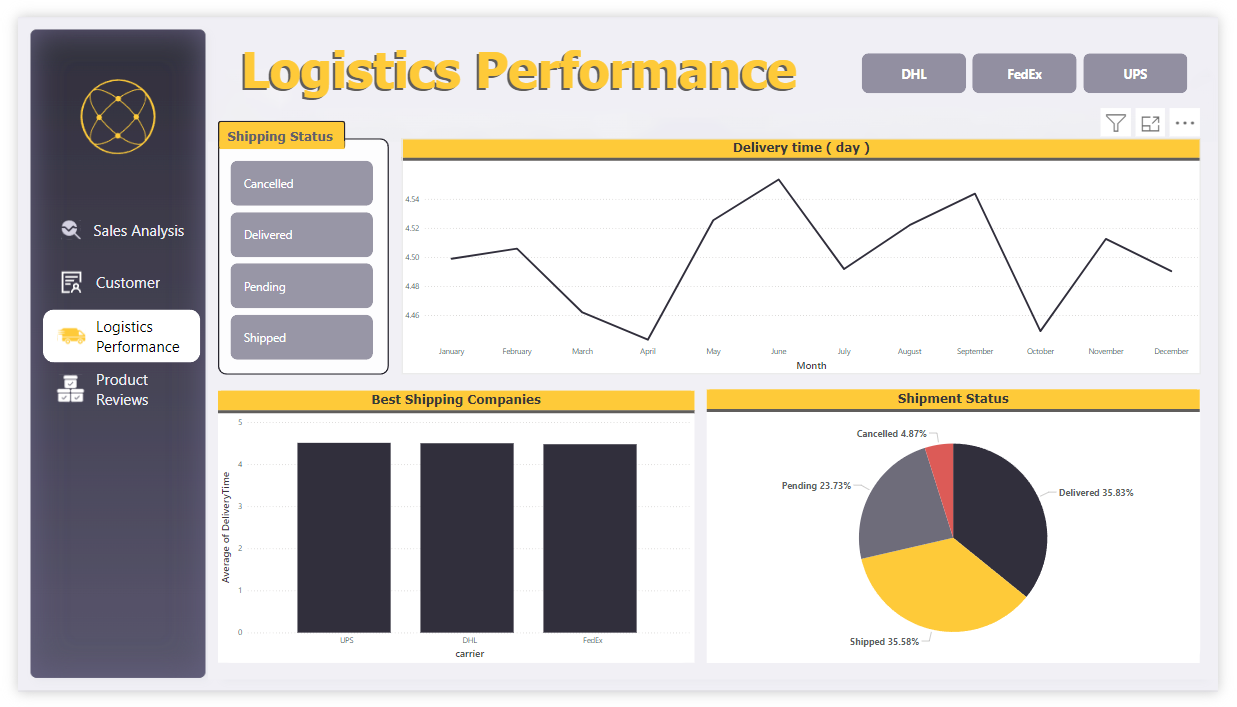

Layout of this report page (visuals, bound fields, positions):
{"tool":"powerbi","page":{"name":"Logistics Performance 🚚","canvas":[1920,1080],"ordinal":2},"visuals":[{"type":"shape","box":[613.3,193.3,1278.3,377.7],"z":0,"group":"g2"},{"type":"shape","box":[1101.8,597.1,790,435.4],"z":0},{"type":"lineChart","title":"Delivery time ( day )","fields":{"Y":["Avg(shipments.DeliveryTime)"],"Category":["shipments.shipment_date.Variation.Date Hierarchy.Month"]},"box":[613.3,193.3,1278.3,377.7],"z":500,"group":"g2"},{"type":"shape","box":[320,193.4,273.3,378.3],"z":1000,"group":"g3"},{"type":"shape","box":[320,597.1,762,435.4],"z":1000},{"type":"actionButton","title":"Ratios","box":[39.6,552.9,251.7,84.8],"z":2000,"group":"g4"},{"type":"pieChart","title":"Shipment Status","fields":{"Category":["shipments.shipment_status"],"Y":["CountNonNull(shipments.shipment_id)"]},"box":[1102.3,596.2,788.9,437.7],"z":2000},{"type":"columnChart","title":"Best Shipping Companies","fields":{"Category":["shipments.carrier"],"Y":["Avg(shipments.DeliveryTime)"]},"box":[320,598.7,762,435.4],"z":3000},{"type":"advancedSlicerVisual","title":"Shipping company.","fields":{"Values":["shipments.carrier"]},"box":[1329.2,37.8,563.8,104.5],"z":4000},{"type":"group","id":"g1","title":"Group 4","box":[347.8,27,962.4,124.4],"z":5000},{"type":"actionButton","title":"Expenses_active","box":[39.6,468.3,251.7,84.8],"z":5000,"group":"g4"},{"type":"group","id":"g2","title":"Group 2","box":[613.3,193.3,1278.3,378.3],"z":6000},{"type":"actionButton","title":"Revenue","box":[39.6,383.9,251.7,84.8],"z":6000,"group":"g4"},{"type":"group","id":"g3","title":"Group 3","box":[312.7,166.1,280.6,405.6],"z":7000},{"type":"textbox","title":"Title","box":[347.8,30,940.1,121.4],"z":7250,"group":"g1"},{"type":"textbox","title":"Title","box":[352,27,958.2,117.7],"z":7500,"group":"g1"},{"type":"group","id":"g4","title":"Buttons Menu","box":[39.6,299,252.2,507.9],"z":8000},{"type":"actionButton","title":"Overview","box":[39.6,299,251.7,84.6],"z":8000,"group":"g4"},{"type":"advancedSlicerVisual","title":"Shipping Status.","fields":{"Values":["shipments.shipment_status"]},"box":[321,210,268,361],"z":10000,"group":"g3"},{"type":"group","id":"g5","title":"Group 5","box":[320,166.1,203.6,45.5],"z":10500,"group":"g3"},{"type":"shape","box":[320,166.1,203.6,45],"z":11000,"group":"g5"},{"type":"textbox","title":"Title","box":[312.7,171.5,214.5,37.3],"z":11000,"group":"g3"},{"type":"shape","box":[322.7,197.6,201,13.9],"z":12000,"group":"g5"}]}

Visuals, with their boxes in screenshot pixels (x1, y1, x2, y2), scaled from the page's 1920x1080 canvas onto the 1237x707 screenshot:
shape: 395/127/1219/374
shape: 710/391/1219/676
"Delivery time ( day )" lineChart: 395/127/1219/374
shape: 206/127/382/374
shape: 206/391/697/676
"Ratios" actionButton: 26/362/188/417
"Shipment Status" pieChart: 710/390/1218/677
"Best Shipping Companies" columnChart: 206/392/697/677
"Shipping company." advancedSlicerVisual: 856/25/1220/93
"Group 4" group: 224/18/844/99
"Expenses_active" actionButton: 26/307/188/362
"Group 2" group: 395/127/1219/374
"Revenue" actionButton: 26/251/188/307
"Group 3" group: 201/109/382/374
"Title" textbox: 224/20/830/99
"Title" textbox: 227/18/844/95
"Buttons Menu" group: 26/196/188/528
"Overview" actionButton: 26/196/188/251
"Shipping Status." advancedSlicerVisual: 207/137/379/374
"Group 5" group: 206/109/337/139
shape: 206/109/337/138
"Title" textbox: 201/112/340/137
shape: 208/129/337/138
